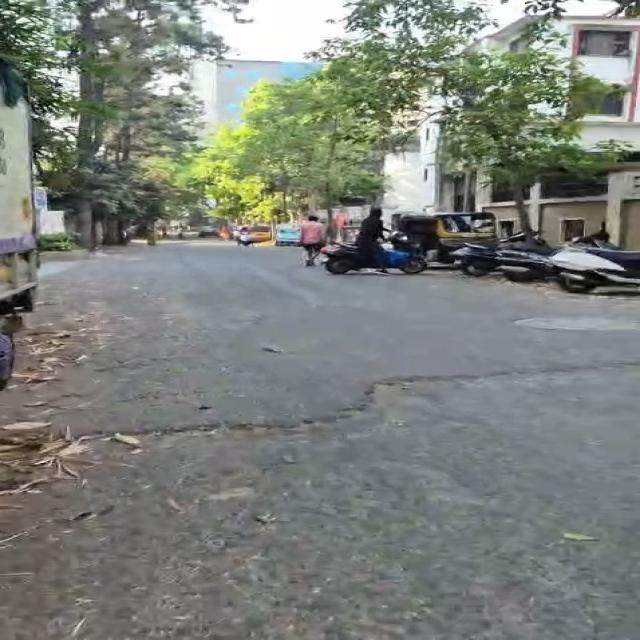bench: (199, 227, 219, 237)
bike: (452, 233, 554, 281), (549, 239, 639, 292), (357, 207, 388, 274), (381, 232, 427, 274), (515, 317, 639, 330), (300, 215, 325, 266)
